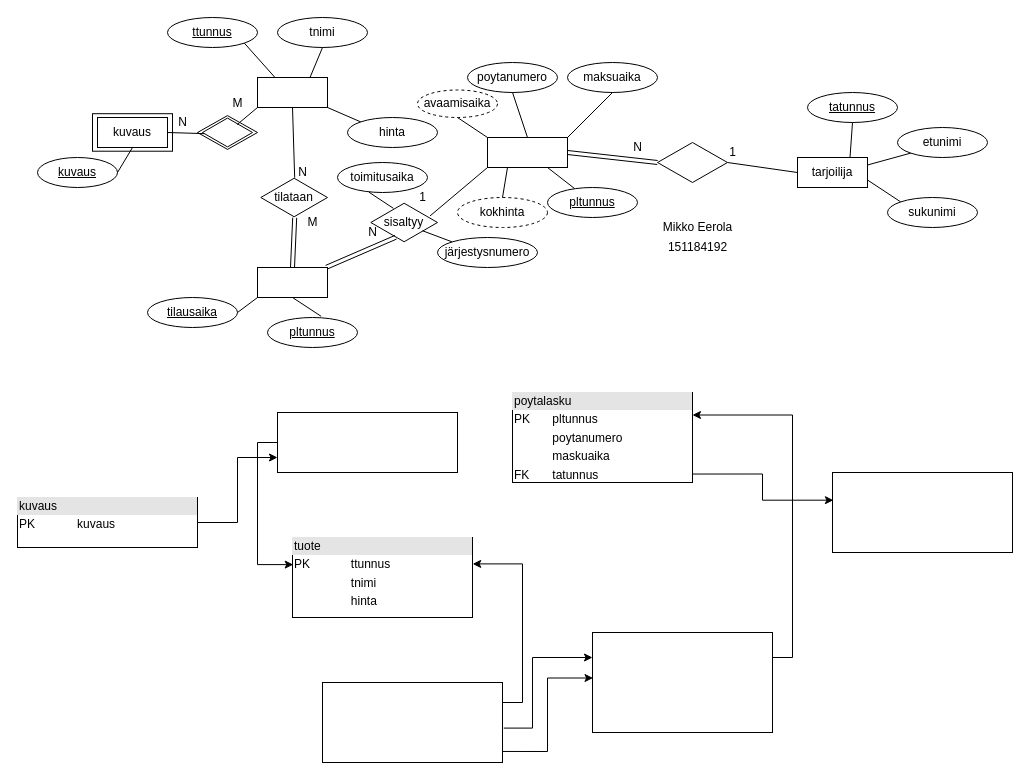
This 1030x780 diagram has some shape labels left out. The shapes that lost their labels are listed below. From the top down, each one's centre as x and y in pixels, then its label:
(292,92): tuote
(227,132): kuvaa
(527,152): poytalasku
(692,162): tarjoilee
(292,282): tilaus
(367,442): kuvaa PK, FK ttunnus PK, FK kuvaus
(922,512): tarjoilija PK tatunnus etunimi sukunimi
(682,682): tilaus PK, FK pltunnus PK tilausaika toimitusaika järjestysnumero
(412,722): tilataan PK, FK ttunnus PK, FK pltunnus PK, FK tilausaika
